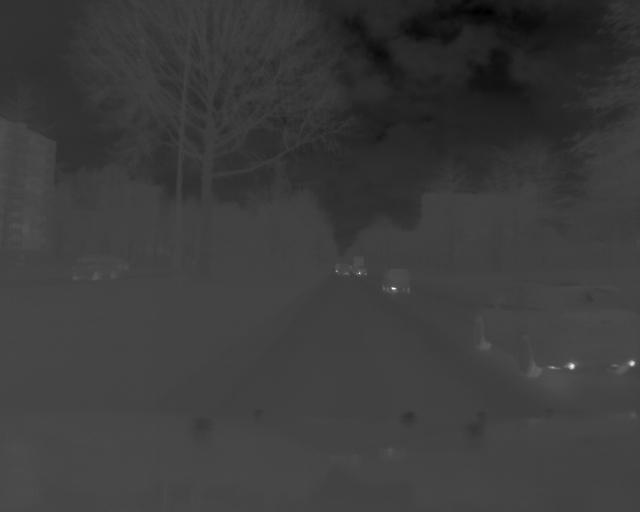car: (469, 278, 639, 383), (69, 256, 121, 285), (382, 268, 413, 298)
